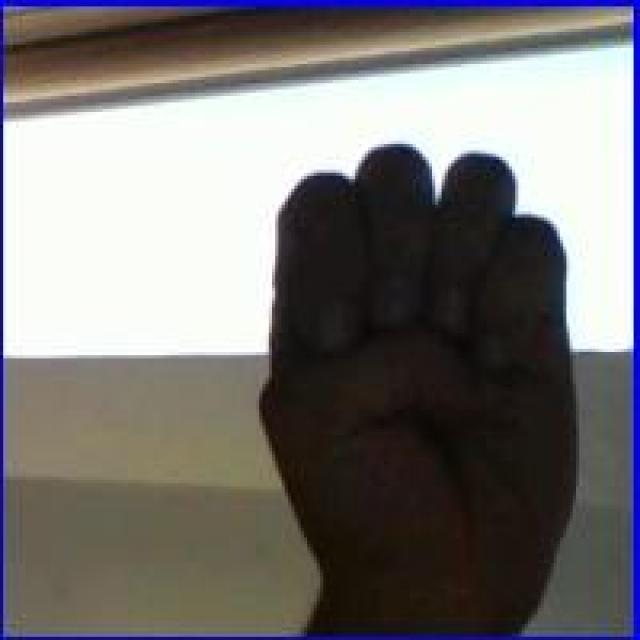E: (245, 134, 587, 634)
